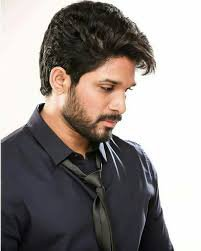noMask: (34, 5, 154, 144)
